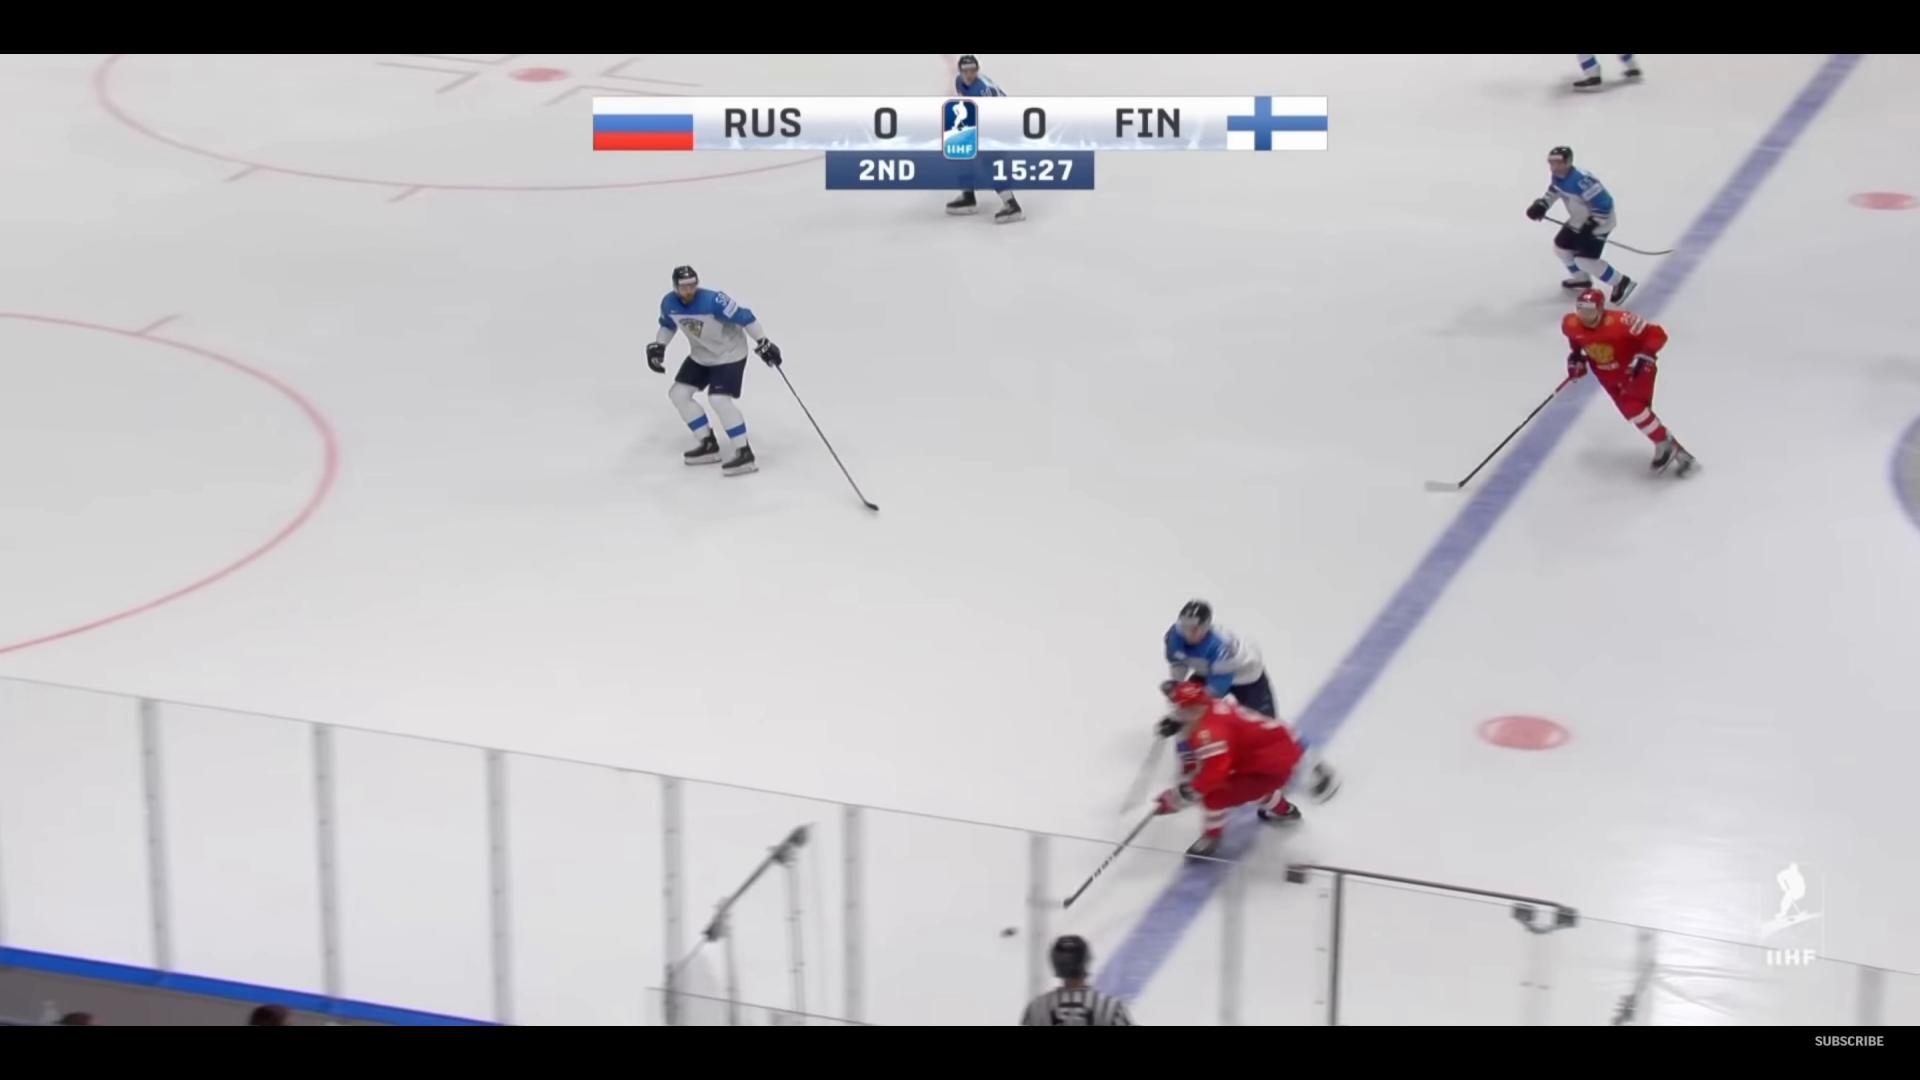puck: (1000, 926, 1017, 936)
